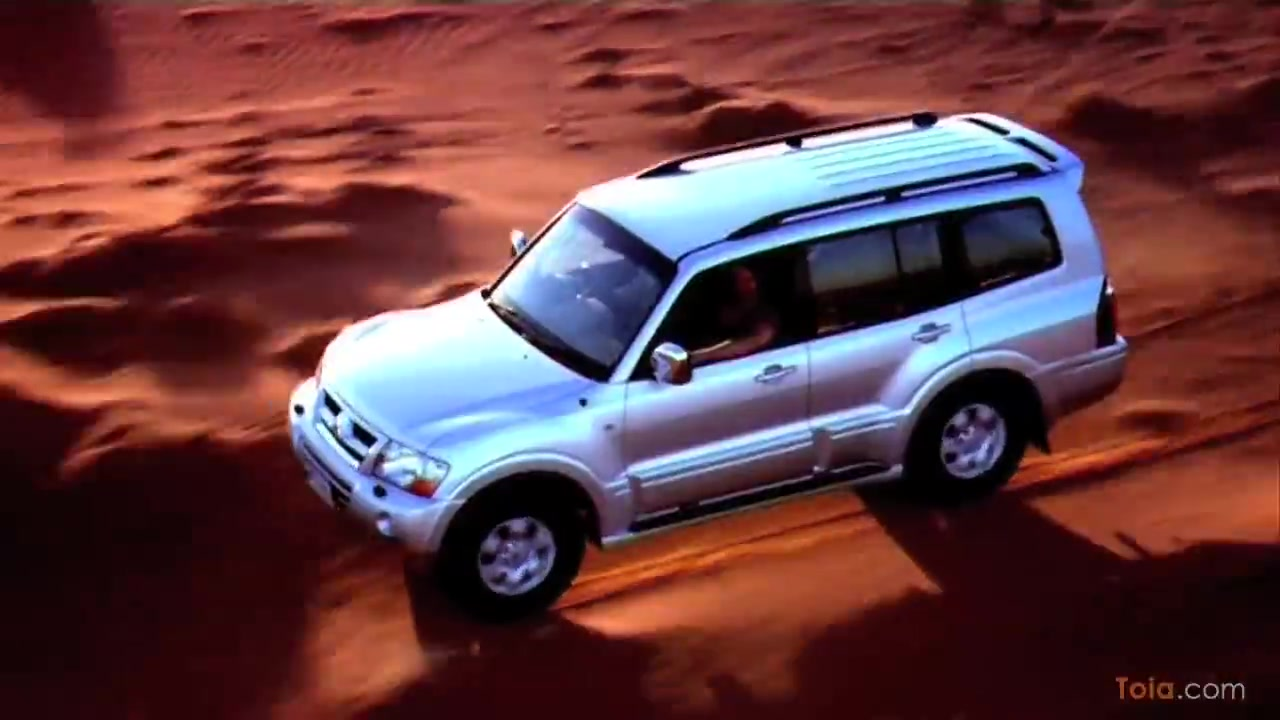car: (285, 97, 1143, 623)
